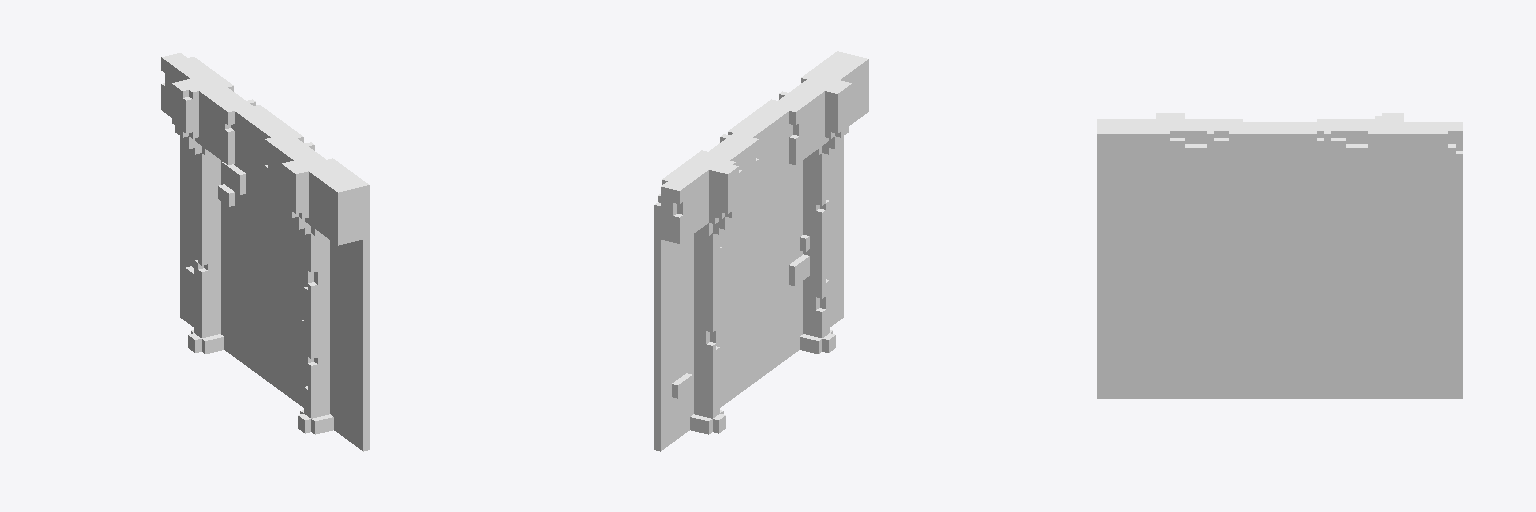
The model's file is vox-22-Wall_Boss.obj.
The picture shows the model from 3 angles: view 1: azimuth 30°, elevation 25°; view 2: azimuth 150°, elevation 25°; view 3: azimuth 270°, elevation 25°; orthographic projection.
Visible parts, largest first — view 1: Wall_Boss; view 2: Wall_Boss; view 3: Wall_Boss.
Boxes of the visible parts, x1,y1,x2,y2 form: Wall_Boss: [161, 53, 369, 451]; Wall_Boss: [654, 51, 868, 451]; Wall_Boss: [1097, 113, 1462, 398].
Bounding box in the file's own units: 0.7 × 4 × 5.